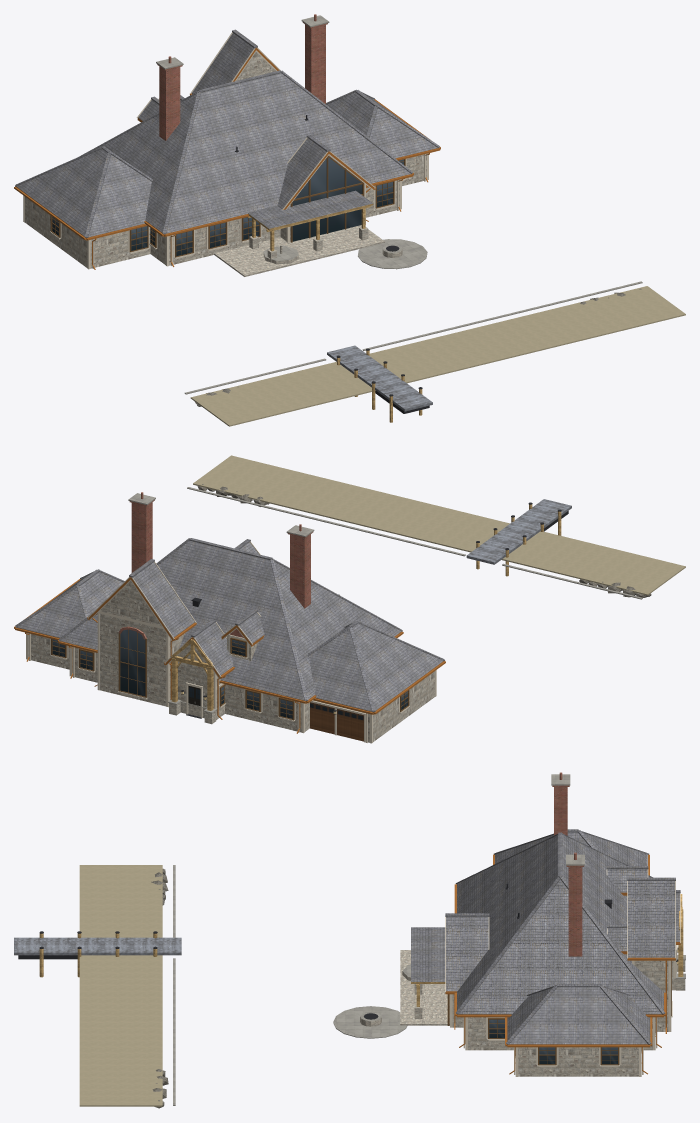
Rendered from lot-8505.fbx.
3 renders of one model, top to bottom at view 1: azimuth 30°, elevation 25°; view 2: azimuth 150°, elevation 25°; view 3: azimuth 270°, elevation 25°, orthographic. The views are drawn at different scales.
Visible parts, largest first — view 1: lot-8505_LOD0; view 2: lot-8505_LOD0; view 3: lot-8505_LOD0.
Part boxes in pixels (<box>): lot-8505_LOD0: <box>14,14,685,426</box>; lot-8505_LOD0: <box>14,455,685,743</box>; lot-8505_LOD0: <box>14,772,685,1108</box>.
Size of what is drawn, in the model's own units: 39 by 15.02 by 46.11.
Materials: 2 (2 with a texture image).
